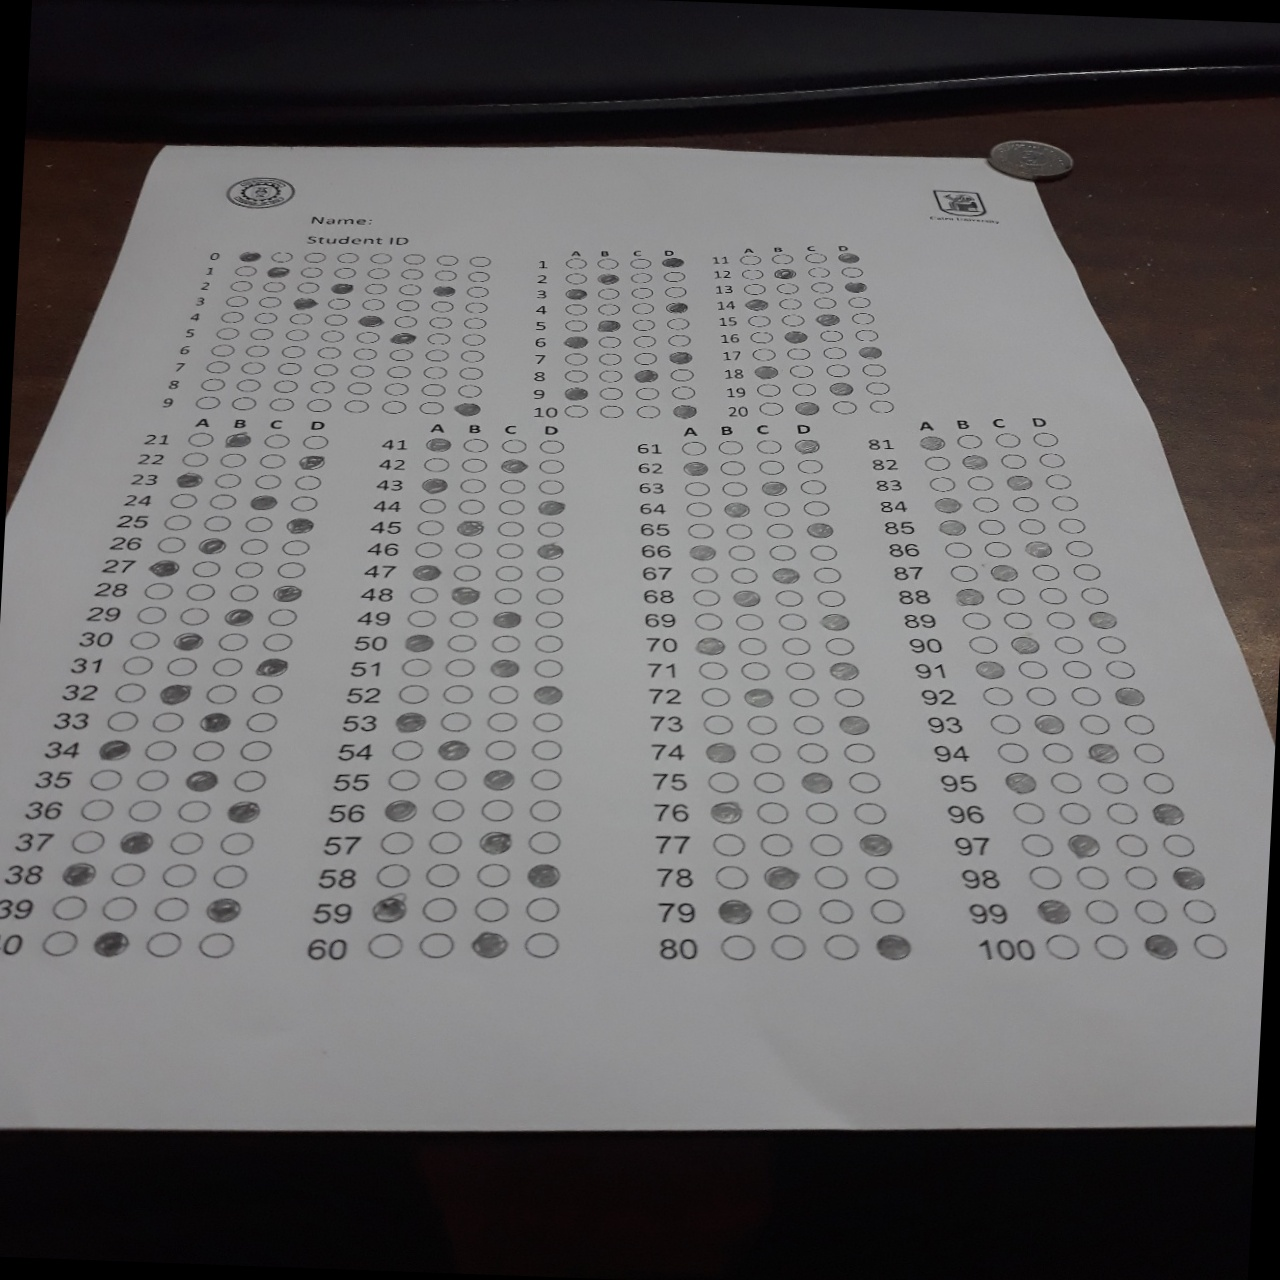not-c: (428, 794, 467, 823), (755, 828, 794, 857), (1190, 931, 1228, 960), (808, 829, 845, 858), (817, 896, 855, 925), (1080, 896, 1117, 925), (1122, 862, 1159, 891), (1076, 862, 1114, 891), (367, 931, 406, 959), (415, 930, 454, 958), (474, 859, 512, 887), (476, 796, 515, 824), (719, 932, 757, 960), (714, 863, 753, 891), (810, 862, 849, 890), (1092, 931, 1131, 959), (1179, 896, 1216, 925), (1133, 897, 1170, 926), (471, 892, 509, 920), (427, 828, 464, 856), (530, 794, 567, 822), (769, 932, 806, 960), (420, 894, 458, 921), (377, 828, 416, 855), (375, 860, 411, 888), (383, 763, 420, 791), (710, 828, 747, 856), (765, 897, 802, 925), (1043, 931, 1080, 959), (523, 930, 560, 956), (524, 896, 561, 922), (422, 862, 459, 888), (1028, 862, 1065, 888), (526, 828, 563, 855), (1012, 801, 1049, 826), (1129, 738, 1166, 764), (994, 738, 1032, 764), (1040, 738, 1077, 764), (1019, 832, 1057, 857), (1075, 709, 1114, 734), (983, 710, 1022, 735), (1049, 768, 1085, 794), (1111, 832, 1149, 857), (1103, 799, 1141, 824), (1159, 831, 1196, 856), (1057, 799, 1094, 824), (1141, 770, 1177, 795), (1121, 712, 1157, 736), (863, 863, 897, 888), (1097, 770, 1133, 794), (213, 864, 247, 888), (155, 896, 189, 920), (102, 896, 136, 920), (853, 801, 887, 825), (529, 764, 561, 789), (128, 798, 162, 822), (220, 831, 254, 855), (110, 862, 144, 885), (163, 863, 197, 886), (147, 932, 181, 955), (52, 896, 86, 919), (43, 930, 77, 953), (869, 899, 903, 922), (823, 934, 857, 958), (531, 735, 563, 760), (486, 707, 518, 731), (170, 831, 204, 853), (72, 829, 105, 851), (200, 934, 234, 956), (436, 765, 467, 790), (532, 706, 563, 730), (261, 631, 293, 654), (486, 685, 519, 707), (445, 629, 478, 652), (406, 606, 438, 628), (533, 607, 566, 629), (493, 538, 526, 560), (784, 659, 817, 681), (1026, 685, 1058, 707), (177, 799, 211, 821), (980, 686, 1014, 707), (1001, 610, 1035, 631), (1044, 608, 1078, 629), (1062, 537, 1096, 558), (485, 736, 516, 760), (442, 682, 474, 704), (535, 584, 566, 606), (756, 802, 788, 824), (393, 738, 425, 760), (440, 709, 472, 730), (400, 656, 433, 678), (448, 608, 481, 629), (408, 583, 441, 604), (776, 610, 809, 631), (781, 634, 813, 655), (823, 634, 856, 655), (738, 659, 771, 680), (695, 660, 728, 681), (701, 713, 734, 734), (699, 686, 731, 707), (788, 686, 821, 707), (831, 687, 864, 708), (795, 741, 828, 762), (749, 741, 782, 762), (753, 771, 785, 792), (706, 772, 738, 794), (805, 801, 838, 822), (846, 771, 879, 792), (1061, 658, 1094, 679), (1103, 658, 1136, 679), (1095, 634, 1128, 655), (1053, 632, 1085, 653), (1016, 656, 1049, 678), (968, 633, 1001, 654), (1036, 583, 1069, 604), (1077, 584, 1110, 605), (994, 585, 1027, 606), (946, 561, 979, 583), (942, 538, 975, 559), (983, 537, 1016, 558), (1029, 559, 1062, 580), (1071, 560, 1104, 581), (229, 583, 258, 606), (1065, 685, 1099, 704), (107, 710, 138, 731), (81, 799, 113, 821), (396, 682, 428, 703), (533, 656, 565, 678), (532, 631, 564, 652), (491, 632, 523, 653), (493, 584, 525, 605), (535, 561, 566, 583), (493, 561, 525, 583), (735, 612, 767, 633), (736, 635, 768, 656), (790, 713, 822, 734), (843, 742, 874, 763), (692, 610, 724, 629), (747, 714, 779, 734), (959, 610, 992, 629), (1055, 515, 1088, 535), (266, 607, 297, 628), (206, 682, 237, 703), (252, 683, 282, 704), (191, 740, 222, 761), (240, 738, 271, 760), (1009, 493, 1043, 512), (166, 656, 198, 676), (445, 658, 477, 678), (1048, 492, 1081, 511), (212, 656, 243, 676), (116, 681, 147, 701), (143, 740, 173, 760), (246, 712, 277, 731), (137, 770, 168, 790), (451, 561, 482, 581), (415, 517, 445, 537), (417, 495, 448, 515), (452, 539, 484, 558), (414, 540, 445, 559), (495, 497, 526, 516), (495, 519, 526, 538), (765, 542, 797, 560), (1043, 471, 1075, 490), (152, 712, 182, 731), (234, 769, 264, 789), (90, 769, 120, 789), (420, 456, 452, 474), (813, 588, 846, 606), (457, 496, 488, 515), (533, 519, 564, 538), (683, 520, 714, 539), (499, 435, 531, 452), (462, 435, 493, 452), (456, 475, 488, 492), (719, 478, 750, 496), (809, 544, 840, 561), (692, 588, 723, 606), (724, 543, 756, 560), (1017, 516, 1049, 533), (976, 517, 1008, 535), (964, 474, 995, 491), (927, 475, 959, 492), (920, 455, 952, 472), (955, 433, 987, 450), (535, 477, 567, 493), (458, 456, 489, 474), (682, 481, 713, 498), (685, 499, 715, 517), (722, 522, 753, 539), (753, 437, 783, 455), (813, 566, 844, 584), (764, 523, 795, 540), (760, 499, 790, 517), (537, 457, 568, 474), (495, 477, 526, 493), (772, 588, 804, 605), (728, 566, 760, 583), (971, 495, 1002, 511), (996, 451, 1028, 468), (1037, 451, 1069, 468), (993, 430, 1024, 447), (537, 436, 567, 452), (678, 438, 708, 455), (719, 458, 749, 475), (756, 458, 787, 475), (796, 478, 826, 495), (802, 499, 832, 516), (688, 566, 719, 583), (301, 434, 329, 451), (219, 633, 247, 651), (1029, 431, 1061, 447), (168, 492, 197, 509), (191, 559, 220, 576), (716, 438, 745, 455), (794, 459, 823, 476), (132, 629, 159, 647), (218, 450, 246, 467), (263, 431, 291, 448), (254, 474, 282, 490), (204, 515, 232, 531), (245, 515, 273, 531), (281, 539, 309, 556), (240, 537, 268, 553), (157, 536, 185, 552), (236, 561, 264, 578), (277, 561, 305, 578), (137, 606, 165, 622), (124, 656, 152, 673), (256, 452, 285, 468), (831, 399, 858, 415), (188, 430, 215, 447), (181, 450, 207, 467), (215, 471, 241, 488), (290, 495, 316, 511), (188, 583, 215, 599), (147, 583, 173, 599), (181, 607, 207, 624), (209, 493, 237, 509), (163, 513, 191, 529), (293, 474, 321, 489), (668, 366, 694, 382), (862, 362, 888, 377), (863, 379, 890, 394), (813, 294, 840, 309), (808, 278, 835, 293), (665, 333, 692, 348), (825, 363, 851, 379), (822, 345, 847, 360), (818, 327, 844, 342), (779, 312, 805, 327), (564, 272, 590, 287), (561, 318, 587, 333), (595, 301, 621, 316), (666, 315, 692, 331), (631, 334, 656, 349), (597, 334, 622, 349), (563, 368, 588, 383), (598, 384, 624, 400), (563, 403, 588, 418), (867, 399, 894, 413), (745, 314, 772, 328), (631, 318, 658, 332), (399, 282, 425, 297), (363, 266, 390, 280), (319, 328, 346, 342), (316, 343, 343, 358), (388, 347, 415, 361), (352, 345, 379, 359), (424, 348, 451, 362), (422, 365, 449, 379), (348, 363, 375, 377), (308, 379, 335, 393), (420, 382, 447, 396), (384, 380, 411, 394), (268, 396, 295, 410), (231, 397, 258, 411), (198, 377, 225, 392), (202, 360, 229, 374), (220, 308, 247, 322), (222, 292, 248, 306), (271, 248, 298, 263), (248, 326, 275, 340), (244, 343, 271, 358), (239, 360, 266, 374), (273, 377, 300, 392), (282, 343, 309, 358), (301, 248, 328, 263), (290, 309, 316, 324), (297, 279, 324, 293), (300, 263, 327, 277), (855, 328, 879, 343), (776, 281, 801, 297), (564, 301, 588, 316), (629, 300, 654, 315), (599, 350, 624, 366), (598, 368, 622, 383), (634, 384, 659, 400), (595, 286, 621, 300), (563, 350, 588, 365), (632, 350, 658, 365), (669, 384, 695, 399), (634, 404, 660, 418), (465, 268, 491, 282), (367, 250, 393, 264), (394, 298, 420, 312), (464, 299, 490, 313), (462, 314, 488, 328), (456, 383, 482, 397), (212, 342, 238, 356), (253, 311, 279, 325), (751, 346, 775, 361), (628, 282, 652, 298), (467, 253, 493, 266), (362, 282, 389, 295), (335, 251, 362, 264), (333, 266, 360, 279), (461, 331, 488, 343), (425, 331, 452, 343), (356, 329, 383, 342), (458, 348, 485, 361), (458, 366, 485, 379), (386, 365, 413, 377), (315, 363, 342, 376), (306, 399, 333, 411), (343, 399, 370, 411), (381, 399, 408, 411), (346, 381, 373, 394), (418, 400, 445, 413), (195, 395, 222, 408), (215, 326, 241, 339), (232, 263, 259, 275), (261, 279, 288, 292), (282, 328, 309, 341), (275, 360, 302, 373), (778, 297, 803, 311), (749, 331, 774, 345), (788, 363, 812, 377), (791, 381, 816, 395), (760, 400, 784, 414), (661, 268, 686, 282), (599, 404, 624, 418), (429, 315, 454, 329), (229, 277, 253, 291), (595, 256, 621, 268), (400, 267, 425, 280), (359, 297, 384, 309), (428, 299, 454, 312), (326, 297, 352, 309), (324, 312, 349, 325), (393, 314, 418, 327), (234, 377, 260, 390), (785, 346, 809, 360), (756, 382, 779, 396), (629, 256, 654, 268), (464, 284, 489, 297), (258, 297, 282, 309), (740, 266, 765, 278), (661, 284, 685, 297), (629, 270, 653, 282), (846, 295, 871, 307), (808, 265, 832, 277), (737, 252, 762, 264), (564, 256, 588, 267), (435, 268, 459, 280), (435, 252, 459, 264), (402, 252, 427, 264), (851, 312, 874, 324), (741, 282, 767, 293), (840, 265, 863, 277), (769, 252, 794, 263), (805, 252, 829, 263)
taken-c: (376, 794, 420, 826), (520, 859, 561, 887), (478, 763, 517, 792), (90, 928, 130, 956), (202, 894, 241, 922), (369, 896, 408, 924), (474, 829, 513, 856), (60, 859, 98, 886), (469, 930, 508, 956), (1005, 631, 1043, 656), (999, 771, 1039, 796), (702, 740, 740, 765), (1083, 740, 1121, 765), (835, 712, 873, 736), (707, 799, 745, 824), (1149, 801, 1187, 825), (1110, 683, 1148, 708), (796, 771, 835, 795), (761, 865, 799, 888), (874, 935, 913, 959), (1034, 900, 1073, 924), (1143, 935, 1182, 959), (1167, 869, 1206, 892), (1065, 832, 1104, 856), (967, 656, 1006, 680), (855, 831, 892, 855), (715, 900, 753, 924), (1032, 712, 1069, 735), (488, 655, 524, 679), (492, 605, 529, 628), (400, 631, 437, 653), (436, 738, 472, 761), (527, 682, 564, 704), (408, 560, 444, 583), (392, 712, 427, 734), (257, 658, 290, 681), (418, 433, 456, 452), (726, 588, 763, 608), (717, 501, 754, 520), (756, 477, 792, 497), (788, 435, 824, 455), (448, 585, 485, 604), (531, 540, 568, 559), (680, 458, 717, 477), (740, 689, 777, 708), (821, 662, 858, 681), (533, 498, 570, 517), (499, 455, 536, 474), (413, 475, 449, 493), (804, 520, 840, 539), (765, 564, 802, 583), (682, 542, 719, 560), (148, 558, 179, 579), (268, 581, 300, 602), (223, 606, 254, 627), (98, 737, 130, 758), (451, 518, 486, 537), (692, 636, 727, 655), (173, 629, 204, 651), (159, 682, 190, 703), (199, 710, 230, 731), (185, 769, 216, 790), (227, 801, 258, 822), (120, 831, 150, 852), (1087, 610, 1118, 629), (931, 496, 962, 515), (988, 563, 1019, 581), (1002, 474, 1033, 492), (960, 452, 990, 471), (918, 434, 948, 452), (939, 517, 971, 535), (954, 586, 983, 605), (1024, 540, 1055, 558), (285, 517, 313, 533), (175, 471, 202, 488), (248, 493, 275, 510), (197, 537, 224, 553), (829, 381, 855, 395), (658, 253, 683, 267), (563, 286, 588, 300), (264, 264, 290, 278), (236, 247, 261, 261), (783, 329, 808, 343), (815, 312, 839, 326), (564, 334, 588, 348), (595, 271, 620, 285), (455, 401, 479, 415), (390, 331, 415, 345), (331, 280, 355, 294), (843, 279, 869, 292), (297, 455, 322, 468), (836, 250, 859, 264), (674, 404, 697, 418), (669, 349, 693, 363), (663, 300, 687, 314), (595, 318, 619, 332), (431, 282, 455, 297), (744, 297, 769, 309), (753, 365, 777, 377), (633, 368, 658, 381), (563, 387, 587, 400), (225, 434, 250, 447), (858, 345, 881, 358), (358, 313, 381, 326), (772, 267, 795, 280), (294, 297, 316, 309), (795, 401, 818, 413)
